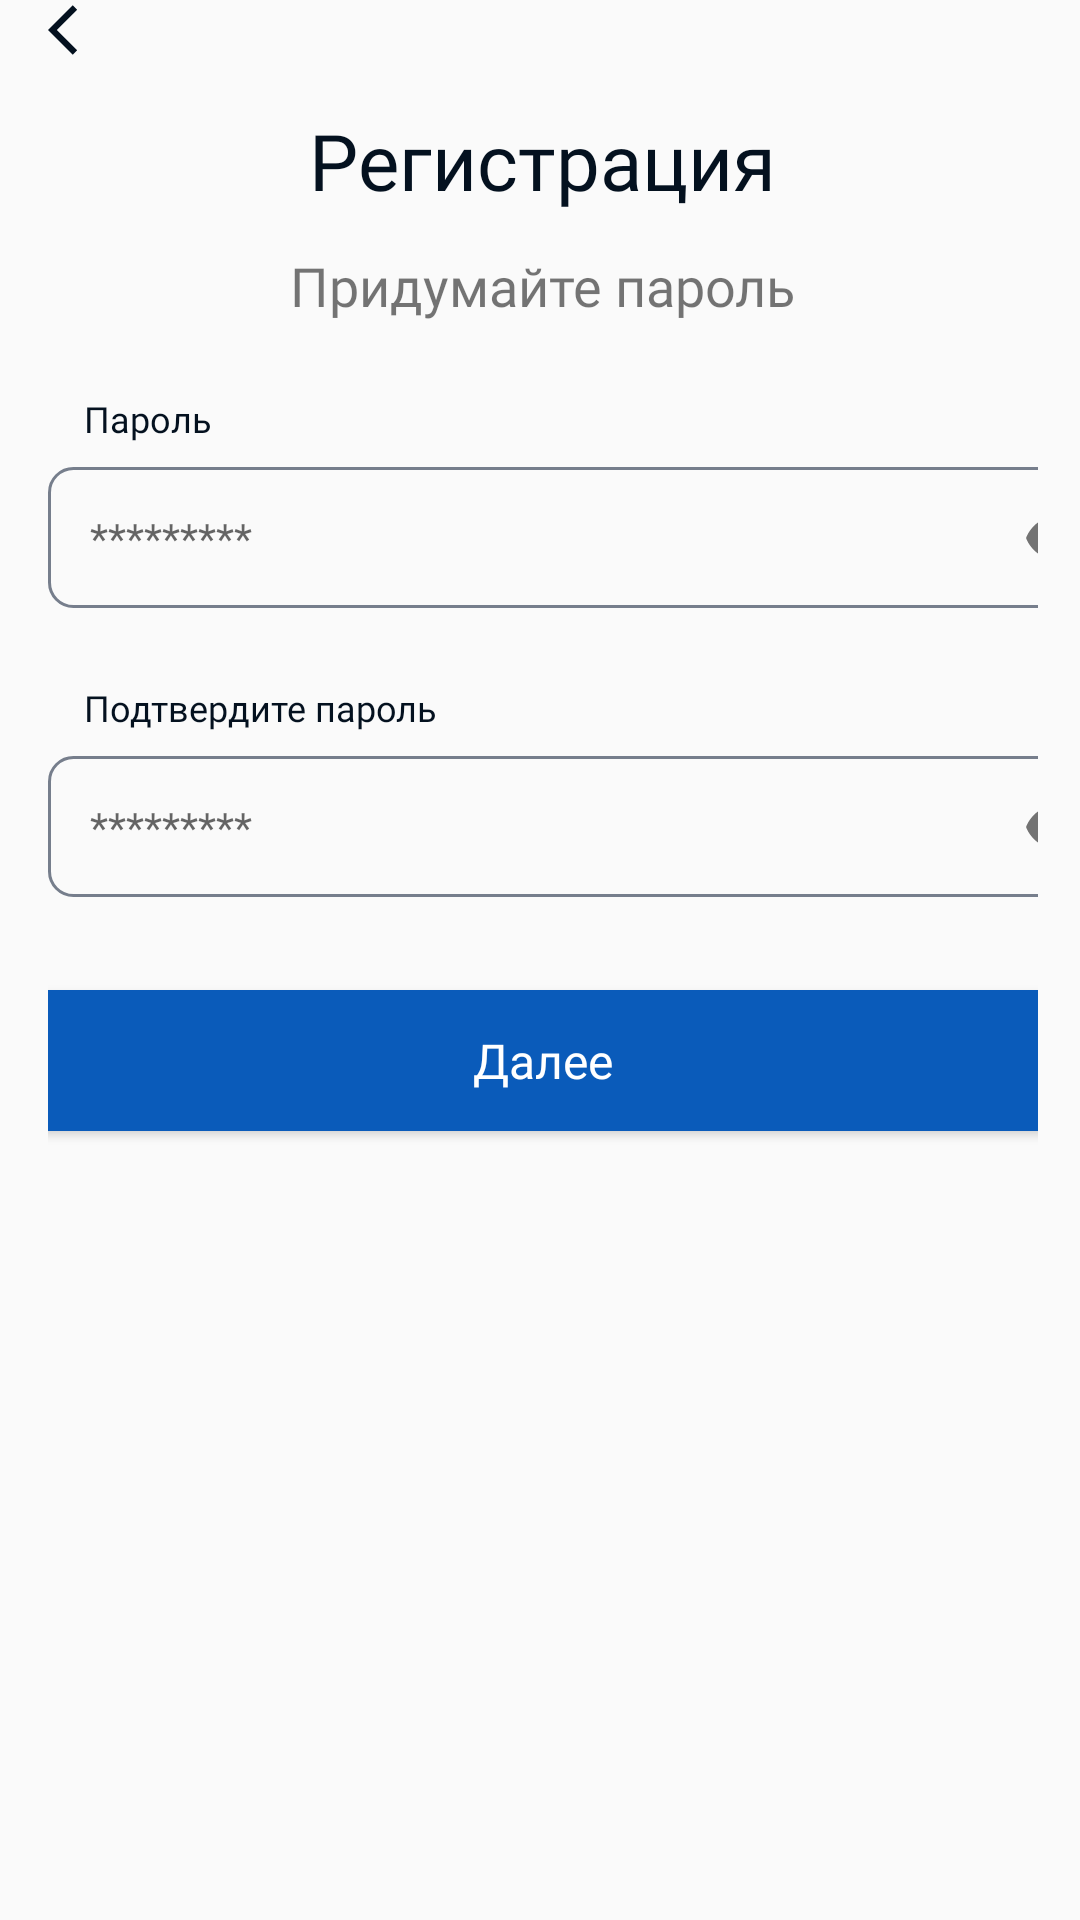

Icons on this 1080w x 1920h Android screen, each with the point to tap as point (x, y):
arrow back: point (62, 30)
